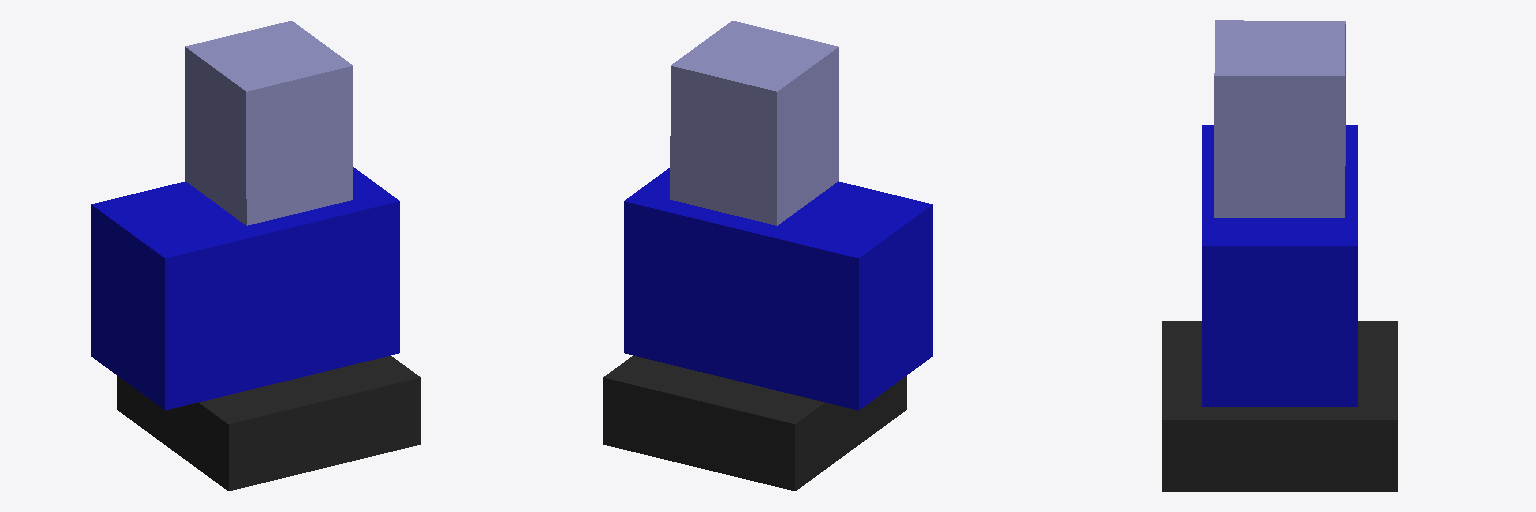
URDF robot description (test_robot):
<robot name="test_robot">

  <link name="base">
  <inertial>
    <mass value="0.2"/>
    <inertia ixx="100" ixy="0" ixz="0" iyy="100" iyz="0" izz="100" />
    <origin/>
  </inertial>
  <visual>
    <origin xyz="0.00 0.00 0.015" rpy="0 0 0" />
    <geometry>
      <box size="0.09 0.09 0.03" />
    </geometry>
    <material name="gray">
      <color rgba=".2 .2 .2 1" />
    </material>
  </visual>
  </link>


  <link name="spinner">
  <inertial>
    <mass value="0.2"/>
    <inertia ixx="100" ixy="0" ixz="0" iyy="100" iyz="0" izz="100" />
    <origin/>
  </inertial>
  <visual>
    <origin xyz="-0.011 0.0 0.034" rpy="0 0 0" />
    <geometry>
      <box size="0.11 0.06 0.068" />
    </geometry>
    <material name="blue">
      <color rgba=".1 .1 .8 1" />
    </material>
  </visual>
  </link>


  <link name="recon_lidar">
  <inertial>
    <mass value="0.2"/>
    <inertia ixx="100" ixy="0" ixz="0" iyy="100" iyz="0" izz="100" />
    <origin/>
  </inertial>
  <visual>
    <origin xyz="0.00 0.0 0.0" rpy="0 0 0" />
    <geometry>
      <box size="0.06 0.05 0.05" />
    </geometry>
    <material name="lightGray">
      <color rgba=".6 .6 .8 6" />
    </material>
  </visual>
  </link>

  <joint name="recon_joint" type="continuous">
    <parent link="base"/>
    <child link="spinner"/>
    <origin xyz="0 0 0.035" rpy="0 0 0" />
    <axis xyz="0.0 0.0 -1.0" />
  </joint>

  <joint name="spinner_lidar" type="fixed">
    <parent link="spinner"/>
    <child link="recon_lidar"/>
    <origin xyz="0 0 0.101" rpy="0 -1.57 3.14" />
    <axis xyz="0.0 0.0 1.0" />
  </joint>

</robot>

--- Facts derived from the render (not from the file) ---
Views: 3 orthographic renders of the robot side by side, from view 1: azimuth 30°, elevation 25°; view 2: azimuth 150°, elevation 25°; view 3: azimuth 270°, elevation 25°.
Robot: test_robot — 3 links, 2 joints (1 continuous, 1 fixed); root link base; default pose: every joint at zero.
Visible links, largest first — view 1: spinner, recon_lidar, base; view 2: spinner, recon_lidar, base; view 3: spinner, base, recon_lidar.
Boxes of the visible links, box(x1,y1,x2,y2) form: spinner: box(91, 167, 399, 410); recon_lidar: box(185, 21, 352, 225); base: box(117, 356, 420, 490); spinner: box(624, 168, 932, 410); recon_lidar: box(670, 21, 838, 225); base: box(603, 356, 906, 490); spinner: box(1202, 125, 1357, 406); base: box(1162, 321, 1397, 491); recon_lidar: box(1214, 20, 1345, 217).
Size in the robot's own frame: 0.111 by 0.09 by 0.166 metres.
Geometry: primitives only (box / cylinder / sphere), no mesh files.